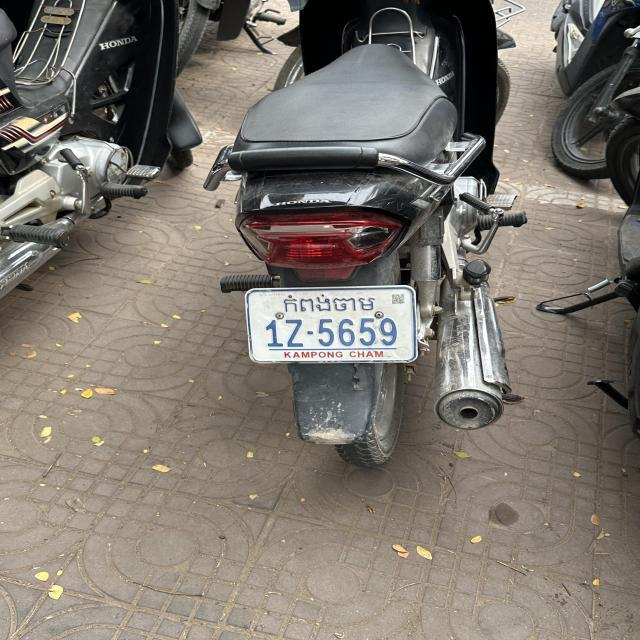Kampong_Cham: (282, 293, 375, 314)
